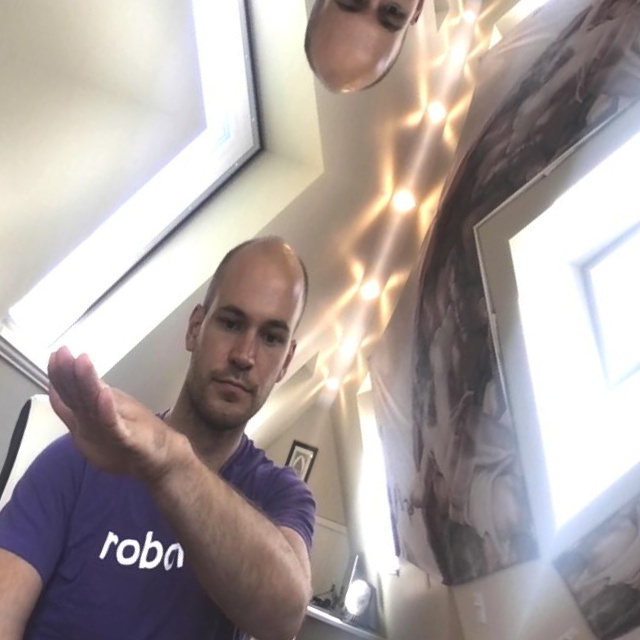Paper: (16, 348, 212, 501)
